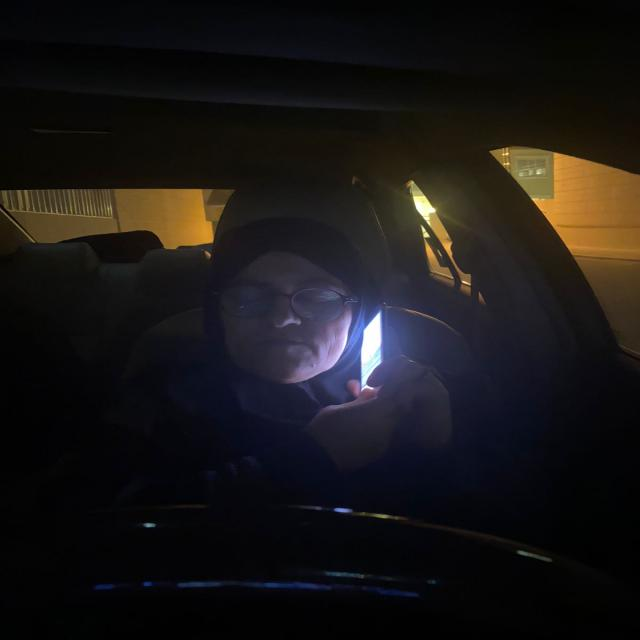mobile: (358, 302, 399, 400)
person: (196, 228, 355, 388)
